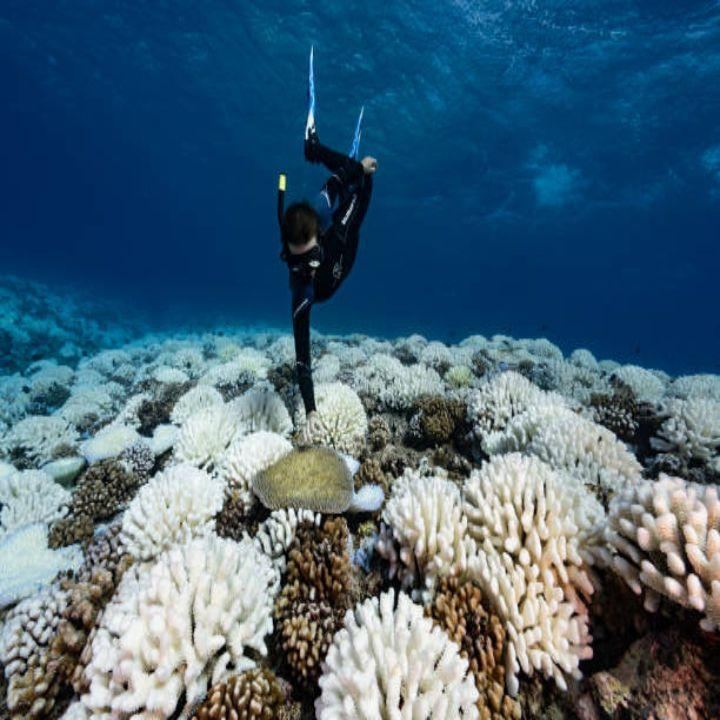Bleached disease: (315, 339, 720, 720), (0, 335, 317, 720)
